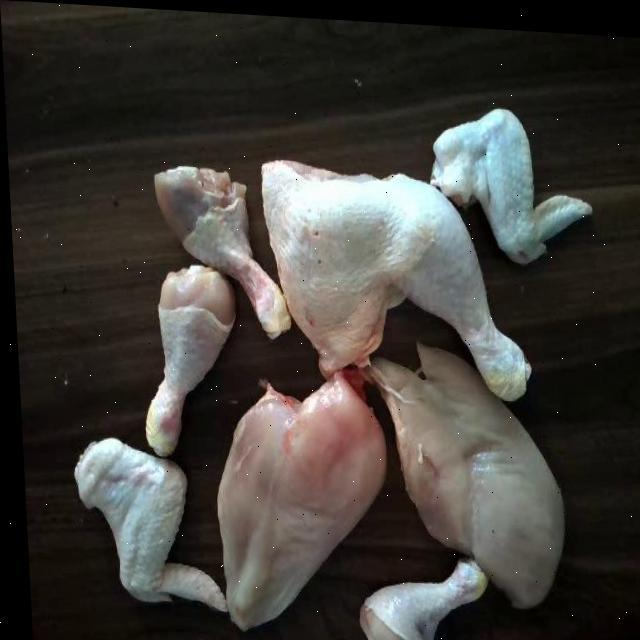breast: (362, 336, 561, 600), (208, 356, 392, 628)
leg: (146, 164, 302, 334), (140, 262, 236, 470), (345, 548, 494, 640)
quater: (256, 152, 531, 394)
wing: (417, 90, 594, 260), (70, 426, 226, 616)
